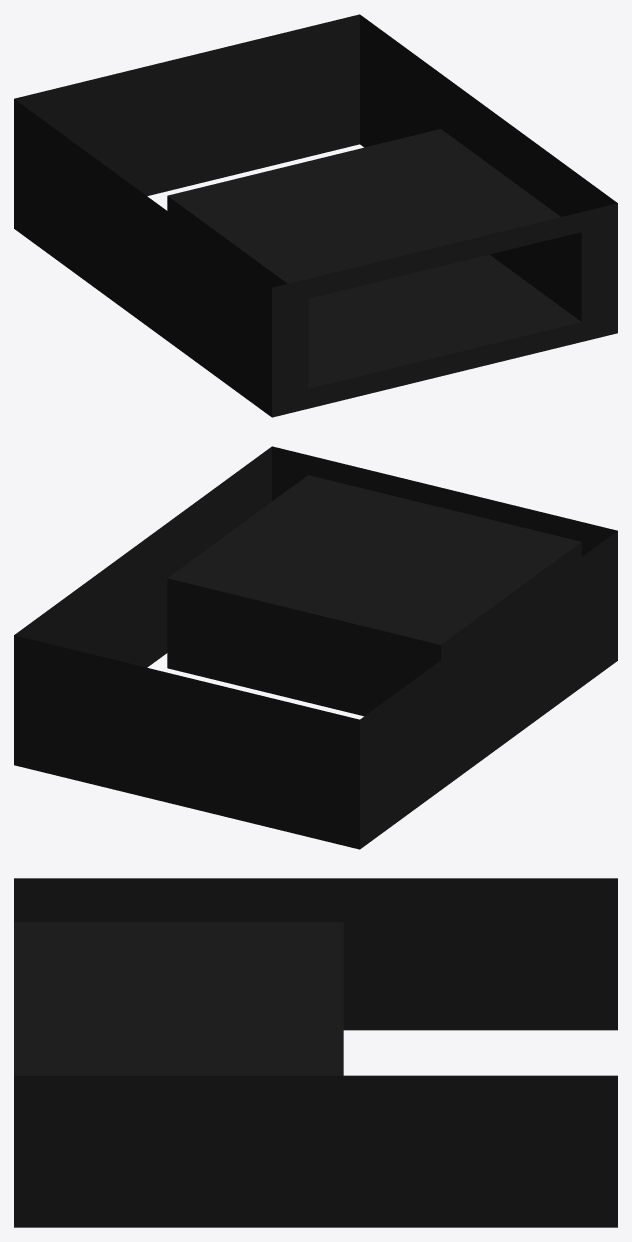
File: Itr_Desk_Drawer_Middle_03.FBX
3 views of the same model, one above another, from view 1: azimuth 30°, elevation 25°; view 2: azimuth 150°, elevation 25°; view 3: azimuth 270°, elevation 25° (orthographic). The views are drawn at different scales.
Visible parts, largest first — view 1: Itr_Desk_Drawer_Middle_03; view 2: Itr_Desk_Drawer_Middle_03; view 3: Itr_Desk_Drawer_Middle_03.
Part boxes in pixels (x1=…): Itr_Desk_Drawer_Middle_03: x1=14, y1=14, x2=617, y2=417; Itr_Desk_Drawer_Middle_03: x1=14, y1=446, x2=617, y2=849; Itr_Desk_Drawer_Middle_03: x1=14, y1=878, x2=617, y2=1227.
Bounding box in the file's own units: 18.22 × 6.54 × 23.55.
